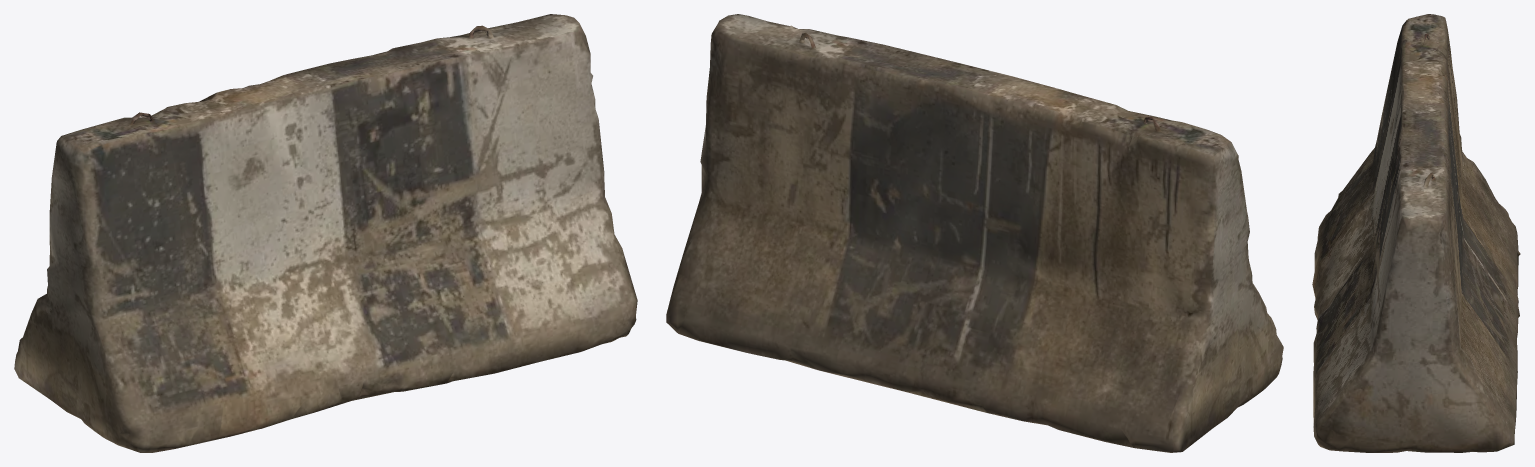
Rendered from concrete_road_barrier.glb.
3 renders of one model, left to right at view 1: azimuth 30°, elevation 25°; view 2: azimuth 150°, elevation 25°; view 3: azimuth 270°, elevation 25°, orthographic. The views are drawn at different scales.
Parts seen in each view (by area): view 1: concrete_road_barrier; view 2: concrete_road_barrier; view 3: concrete_road_barrier.
Part boxes in pixels (x1,y1,x2,y2): concrete_road_barrier: (14, 14, 637, 452); concrete_road_barrier: (666, 14, 1283, 452); concrete_road_barrier: (1312, 14, 1520, 452).
Size of the model in its own units: 1.54 by 0.8304 by 0.6387.
Materials: 1 (1 with a texture image).
